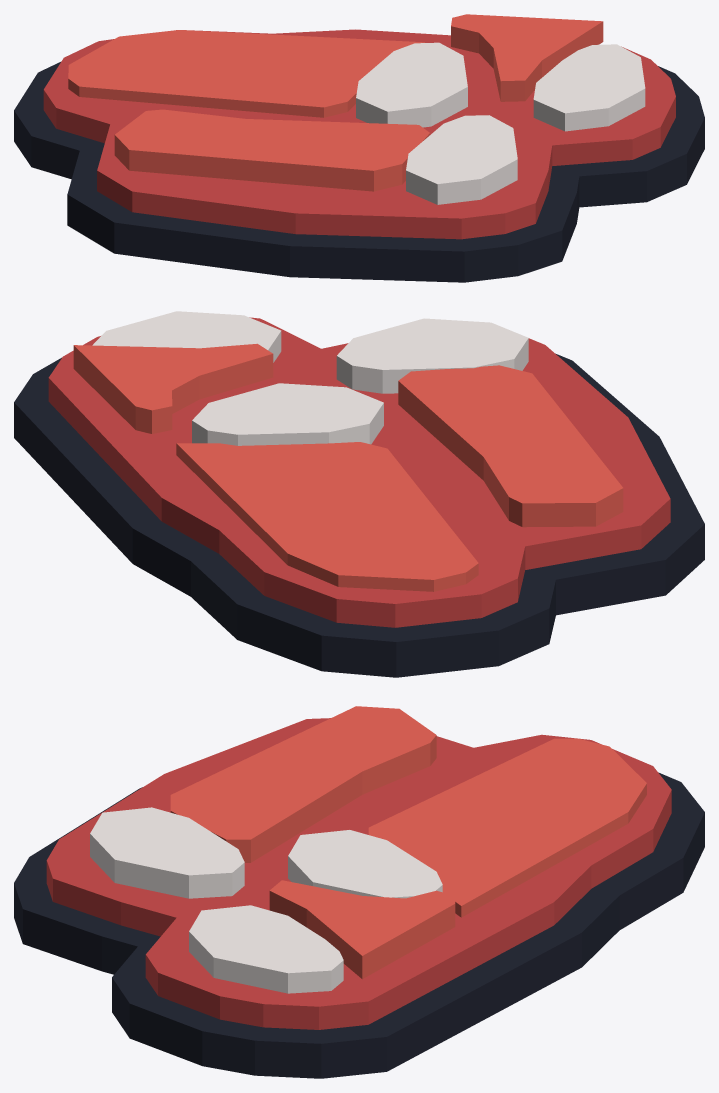
Rendered from crab_sticks.fbx.
The picture shows the model from 3 angles, top to bottom: view 1: azimuth 30°, elevation 25°; view 2: azimuth 150°, elevation 25°; view 3: azimuth 270°, elevation 25°; orthographic projection. The views are drawn at different scales.
Parts seen in each view (by area): view 1: crab_sticks; view 2: crab_sticks; view 3: crab_sticks.
Boxes of the visible parts, box(x1,y1,x2,y2) form: crab_sticks: box(14, 14, 704, 282); crab_sticks: box(14, 311, 704, 677); crab_sticks: box(14, 706, 704, 1078).
Bounding box in the file's own units: 1.17 × 0.16 × 1.07.
Materials: 1 (1 with a texture image).
